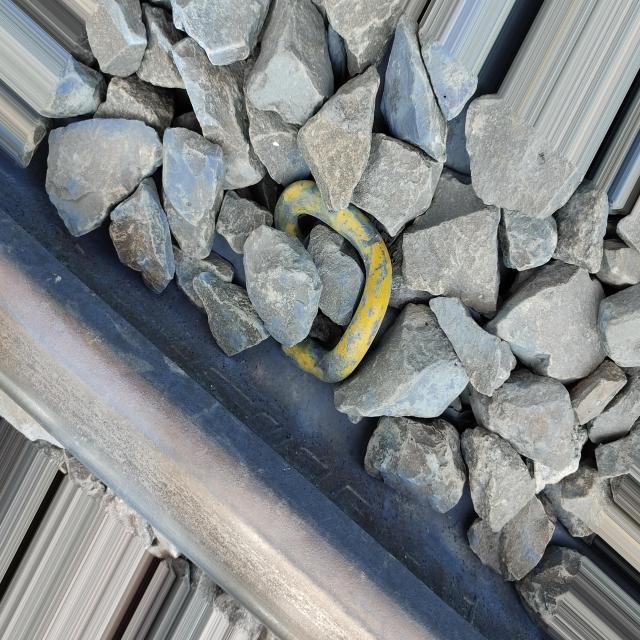Good Fasteners: (274, 180, 392, 383)
